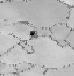good_void: (28, 29, 38, 40)
